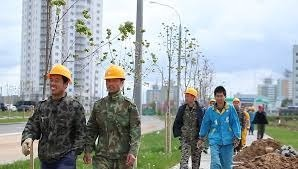helmet: (45, 62, 73, 86), (102, 64, 130, 82), (182, 86, 200, 99)
person with partial safety: (20, 61, 86, 168), (81, 64, 143, 168), (175, 86, 207, 168)
person without safety: (196, 86, 243, 168)
